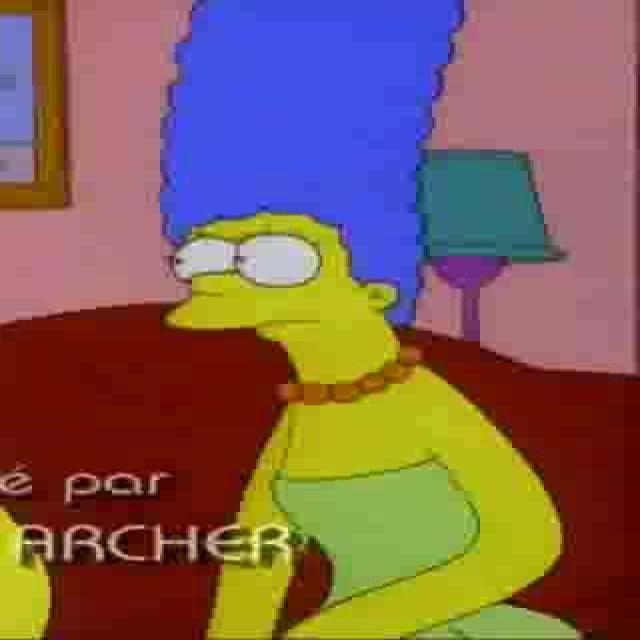Marge Simpson: (159, 1, 473, 404)
